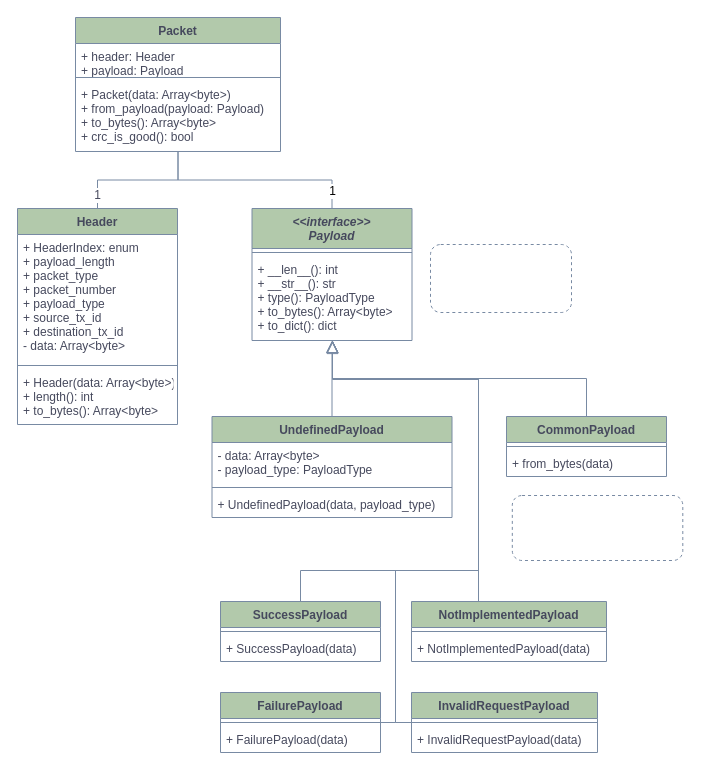
Image size: 701x773. Some labels were removed from this diagram. Each missing label, with the centre of its shape:
"Application-specific payload types must implement the Payload interface" goes at pixel 501 278.
"CommonPayload has several subclasses for basic Amfiprot functionality" goes at pixel 597 527.
